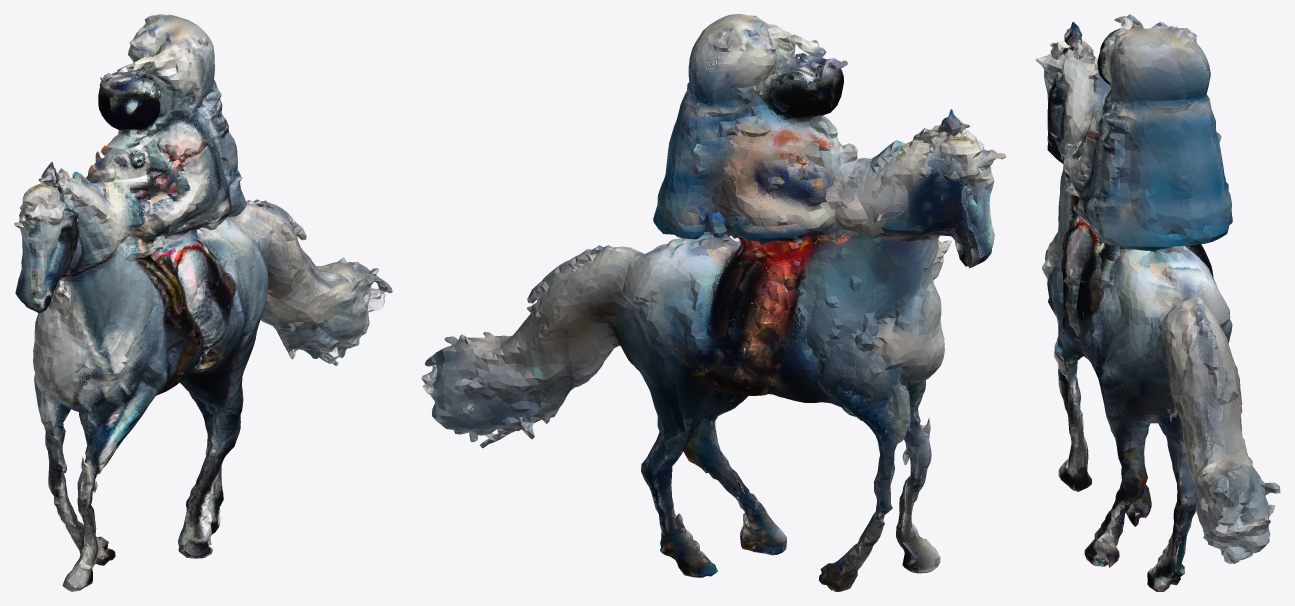
File: astronaut_012.glb
The picture shows the model from 3 angles, left to right: view 1: azimuth 30°, elevation 25°; view 2: azimuth 150°, elevation 25°; view 3: azimuth 270°, elevation 25°; orthographic projection. The views are drawn at different scales.
Bounding box in the file's own units: 1.26 × 1.39 × 0.5683.
Materials: 1 (1 with a texture image).
